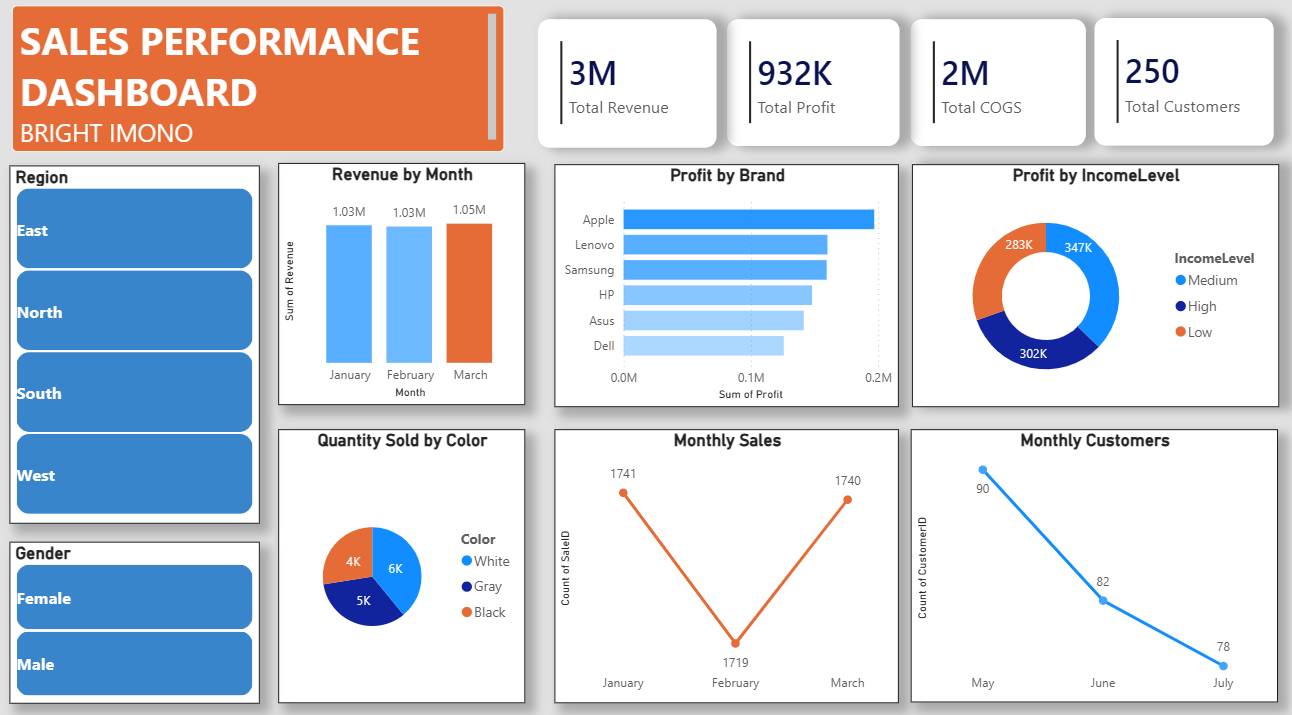

This screenshot's page, from the dashboard's own definition file:
{"tool":"powerbi","page":{"name":"Page 1","canvas":[1280,720],"ordinal":0},"visuals":[{"type":"cardVisual","fields":{"Data":["Table1.Measure"]},"box":[898.6,25.7,171.4,124.3],"z":0},{"type":"cardVisual","fields":{"Data":["Table1.Total Customers"]},"box":[1078.3,25,175,125],"z":1000},{"type":"cardVisual","fields":{"Data":["Table1.Total Profit"]},"box":[718.6,25.7,168.6,124.3],"z":2000},{"type":"barChart","title":"Profit by Brand","fields":{"Category":["Table 1 (Products).Brand"],"Y":["Sum(Table1.Profit)"]},"box":[550.4,167.2,337.1,237.8],"z":3000},{"type":"pieChart","title":"Quantity Sold by Color","fields":{"Category":["Table 1 (Products).Color"],"Y":["Sum(Table1.Quantity)"]},"box":[280,426.7,241.7,268.3],"z":4000},{"type":"cardVisual","fields":{"Data":["Instructions.Total Revenue"]},"box":[534.3,25.7,174.3,125.7],"z":5000},{"type":"lineChart","title":"Monthly Sales","fields":{"Category":["Table1.SaleDate.Variation.Date Hierarchy.Month"],"Y":["CountNonNull(Table1.SaleID)"]},"box":[550.4,426.8,337.1,267.7],"z":6000},{"type":"donutChart","title":"Profit by IncomeLevel","fields":{"Category":["Table 2 (Customers).IncomeLevel"],"Y":["Sum(Table1.Profit)"]},"box":[899.7,167.2,358.8,237.8],"z":7000},{"type":"columnChart","title":"Revenue by Month","fields":{"Category":["Table1.SaleDate.Variation.Date Hierarchy.Month"],"Y":["Sum(Table1.Revenue)"]},"box":[280,166.7,241.7,236.7],"z":8000},{"type":"lineChart","title":"Monthly Customers","fields":{"Category":["Table 2 (Customers).SignupDate.Variation.Date Hierarchy.Month"],"Y":["Count(Table1.CustomerID)"]},"box":[898.4,426.6,359.4,267.2],"z":9000},{"type":"advancedSlicerVisual","fields":{"Values":["Table 2 (Customers).Region"]},"box":[16.7,168.3,245,350],"z":10000},{"type":"advancedSlicerVisual","fields":{"Values":["Table 2 (Customers).Gender"]},"box":[16.7,536.7,245,158.3],"z":11000},{"type":"textbox","box":[20,11.7,481.7,143.3],"z":12000}]}

Visuals, with their boxes in screenshot pixels (x1, y1, x2, y2), scaled from the page's 1280x720 canvas onto the 1292x715 screenshot:
cardVisual - Table1.Measure: BBox(907, 26, 1080, 149)
cardVisual - Table1.Total Customers: BBox(1088, 25, 1265, 149)
cardVisual - Table1.Total Profit: BBox(725, 26, 896, 149)
"Profit by Brand" barChart: BBox(556, 166, 896, 402)
"Quantity Sold by Color" pieChart: BBox(283, 424, 527, 690)
cardVisual - Instructions.Total Revenue: BBox(539, 26, 715, 150)
"Monthly Sales" lineChart: BBox(556, 424, 896, 690)
"Profit by IncomeLevel" donutChart: BBox(908, 166, 1270, 402)
"Revenue by Month" columnChart: BBox(283, 166, 527, 401)
"Monthly Customers" lineChart: BBox(907, 424, 1270, 689)
advancedSlicerVisual - Table 2 (Customers).Region: BBox(17, 167, 264, 515)
advancedSlicerVisual - Table 2 (Customers).Gender: BBox(17, 533, 264, 690)
textbox: BBox(20, 12, 506, 154)
